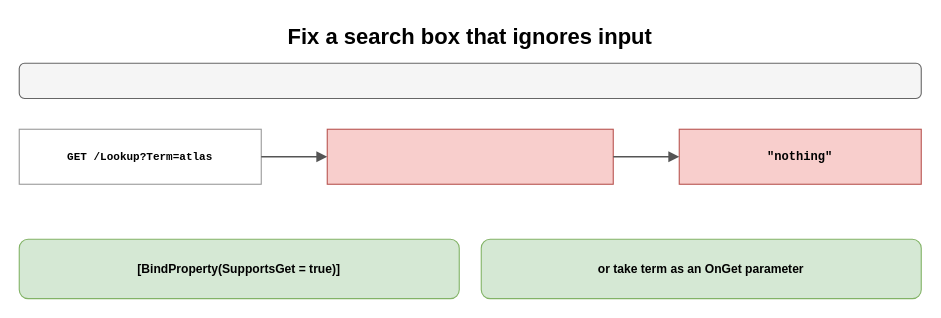
Some shapes in this 941 by 318 pixel diagram are drawn without their labels. The shapes that lost their labels are listed below. From the top down, each one's centre as x and y in pixels, then its label:
At point (469, 80): "[BindProperty] skips GET requests by default".
At point (469, 156): "[BindProperty] string? Term not bound on GET".
